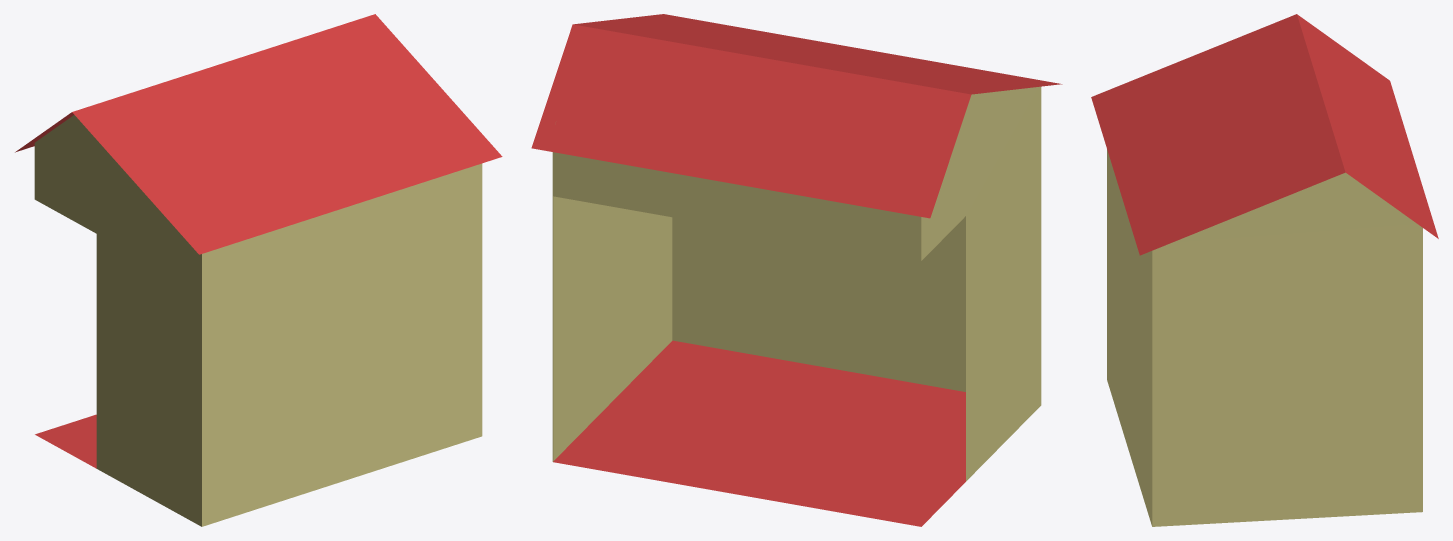
3 renders of one model, left to right at view 1: azimuth 30°, elevation 25°; view 2: azimuth 150°, elevation 25°; view 3: azimuth 270°, elevation 25°, orthographic. The views are drawn at different scales.
Size of the model in its own units: 14.49 by 12.17 by 13.51.
